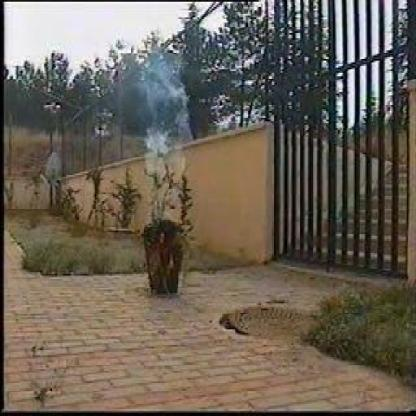-: (143, 58, 187, 178)
